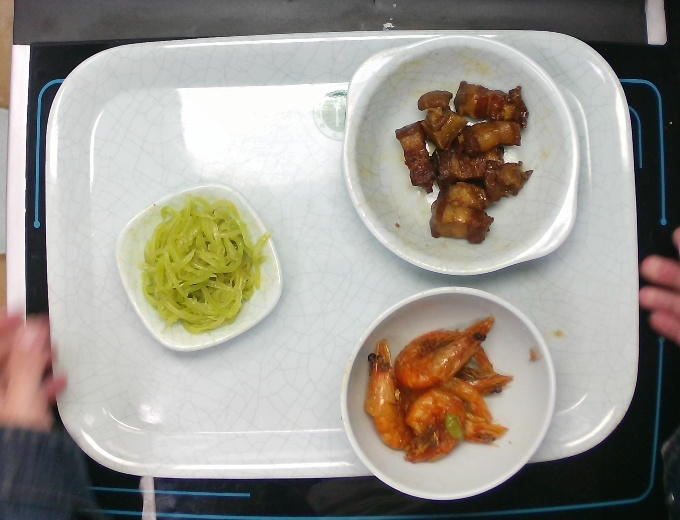JYsf-Fan_Wan: (339, 283, 559, 504)
JYsf-Shuang_Er_Wan: (344, 31, 580, 277)
JYsf-Si_Fang_Die: (114, 183, 284, 350)
